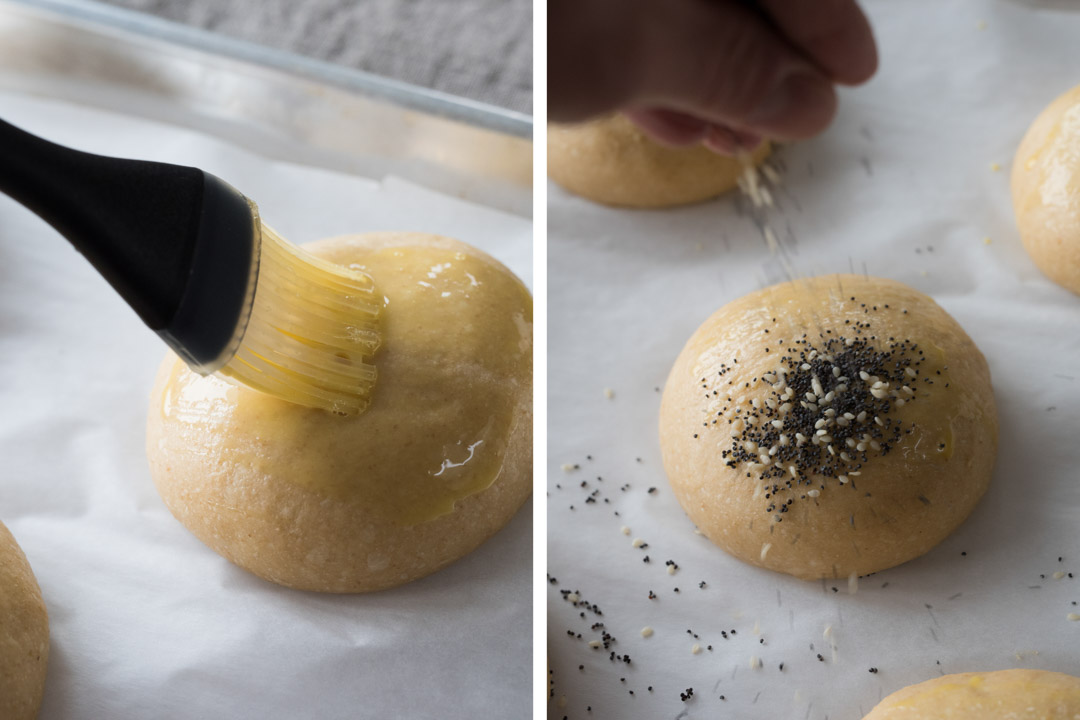hamburger_buns: (656, 243, 1015, 591)
